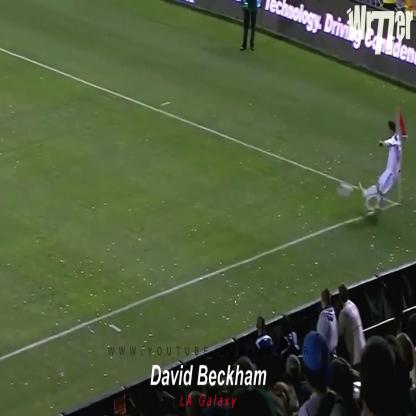corner kick: (337, 90, 414, 275)
